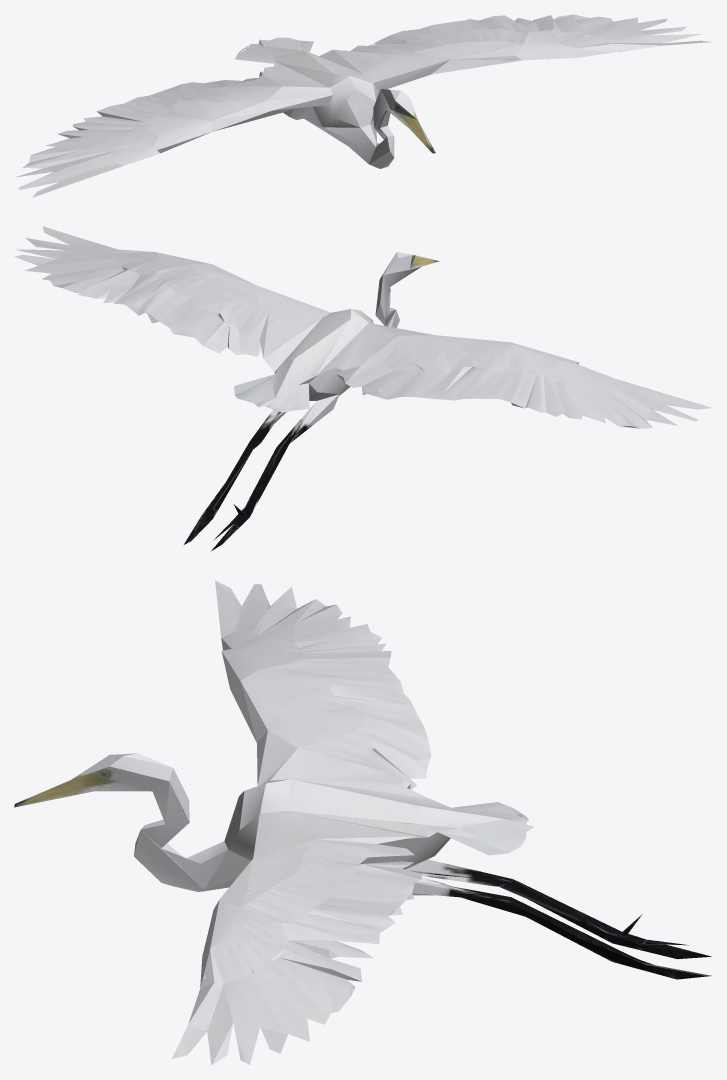
File: egret.glb
The picture shows the model from 3 angles, top to bottom: view 1: azimuth 30°, elevation 25°; view 2: azimuth 150°, elevation 25°; view 3: azimuth 270°, elevation 25°; orthographic projection. The views are drawn at different scales.
Visible parts, largest first — view 1: output_unwrapped; view 2: output_unwrapped; view 3: output_unwrapped.
Boxes of the visible parts, x1,y1,x2,y2 form: output_unwrapped: (15,14,711,197); output_unwrapped: (14,226,711,551); output_unwrapped: (14,580,711,1065).
Bounding box in the file's own units: 4.37 × 0.9 × 2.65.
Materials: 1 (1 with a texture image).
